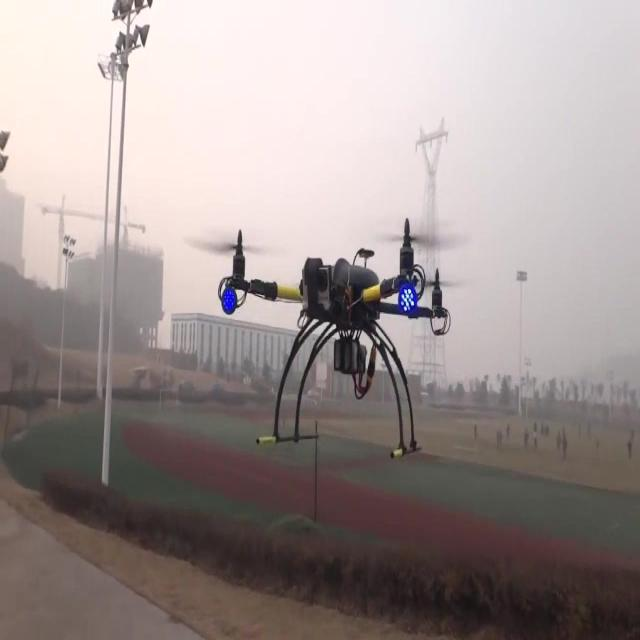drone: (217, 213, 452, 462)
